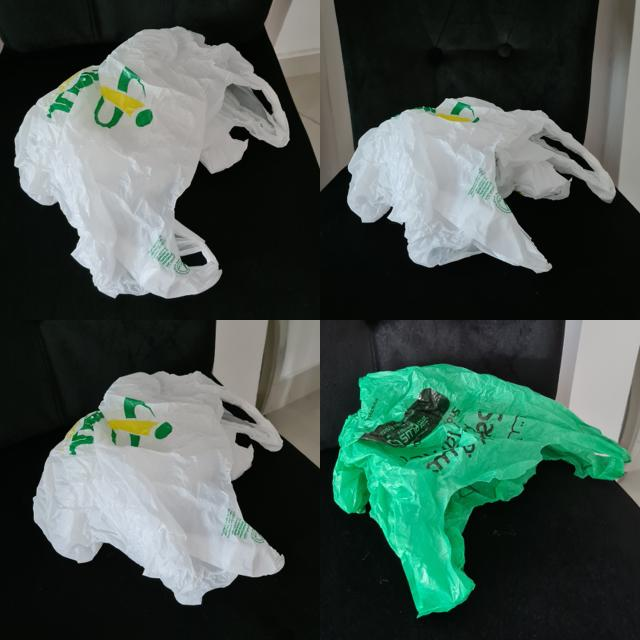Single-layer Plastic: (15, 26, 289, 299), (332, 365, 630, 615), (34, 371, 284, 605), (348, 98, 615, 272)
